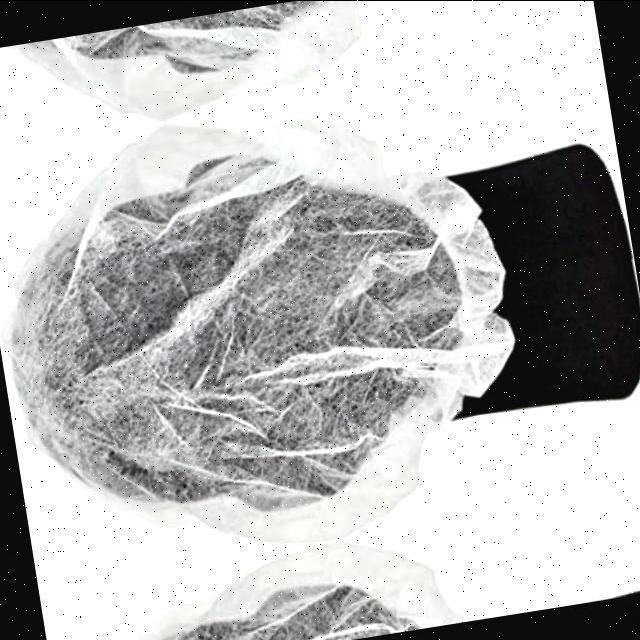gloves: (33, 100, 523, 540)
